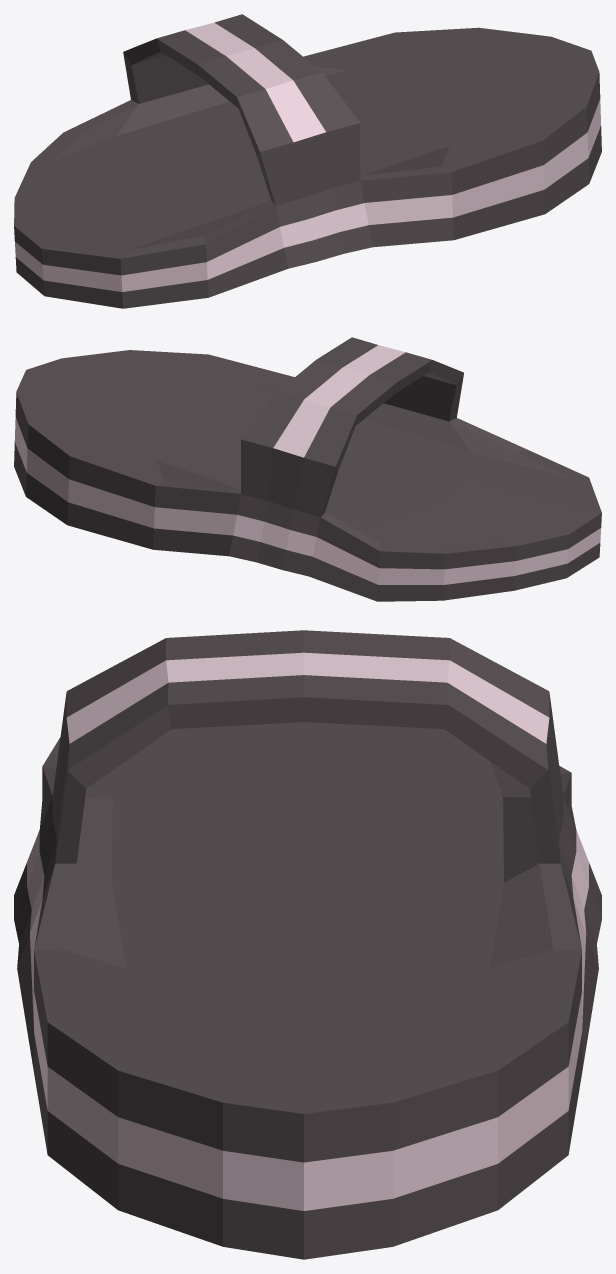
Rendered from slipper.fbx.
3 renders of one model, top to bottom at view 1: azimuth 30°, elevation 25°; view 2: azimuth 150°, elevation 25°; view 3: azimuth 270°, elevation 25°, orthographic. The views are drawn at different scales.
Parts seen in each view (by area): view 1: Slippers; view 2: Slippers; view 3: Slippers.
Part boxes in pixels (left/top/right/bottom): Slippers: left=14, top=14, right=601, bottom=308; Slippers: left=14, top=337, right=601, bottom=601; Slippers: left=14, top=630, right=601, bottom=1259.
Bounding box in the file's own units: 328 × 89.71 × 162.
